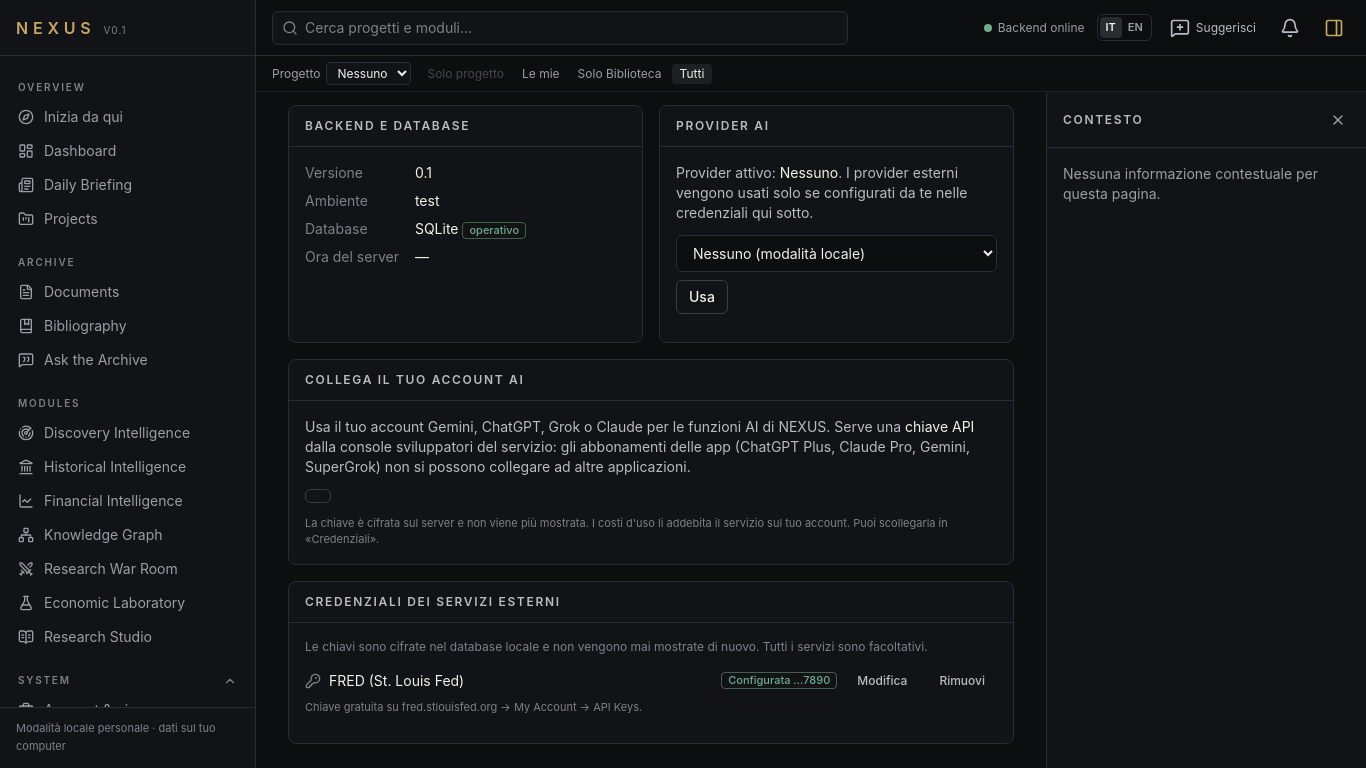
Test: credentials › never displays a stored secret, only its hint
(page scrolled)
Expected: the text "Configurata …7890" is shown, [721,672,837,689]
What coordinates should you click on to do the following:
click the button "Modifica"
I would click on:
 (882, 680)
Its box is [845,666,919,694].
(page scrolled)
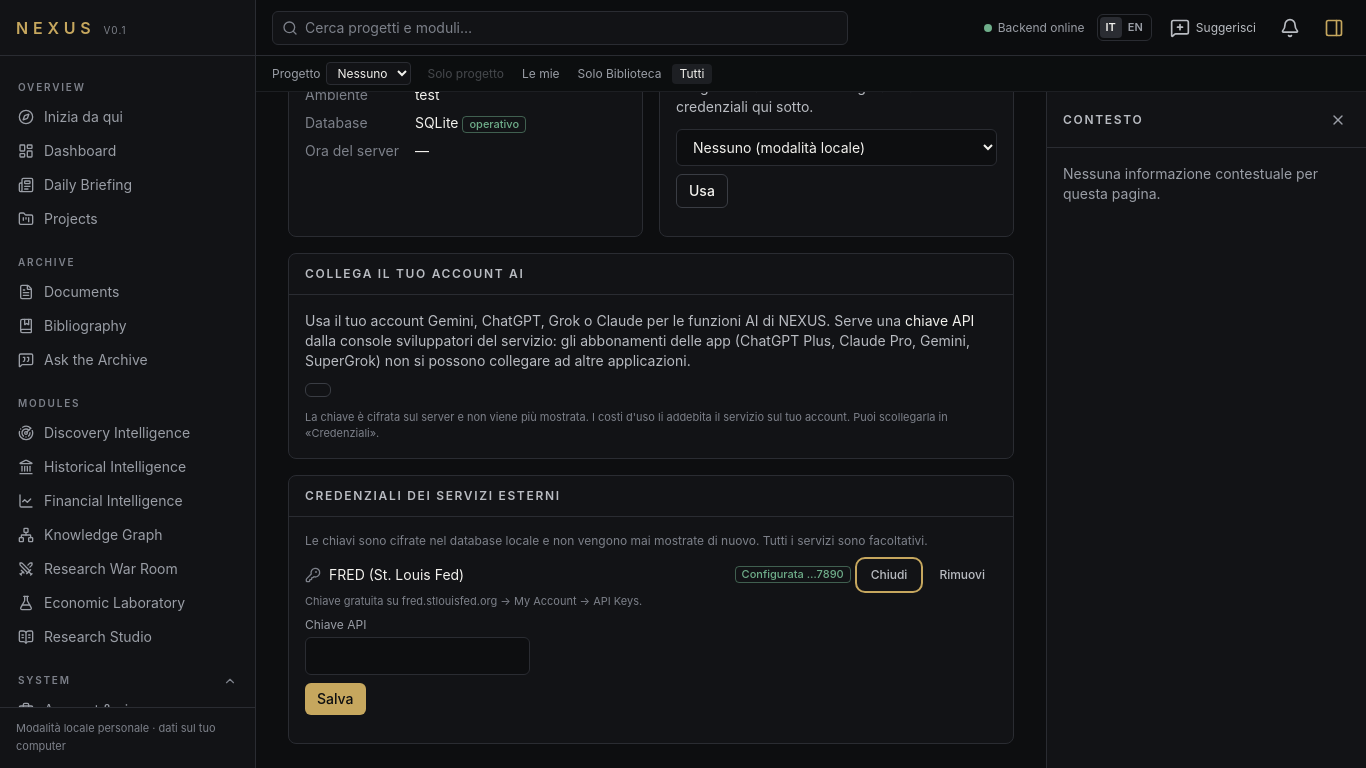
Now the password field labelled "Chiave API" is empty, box [305,637,530,675]
